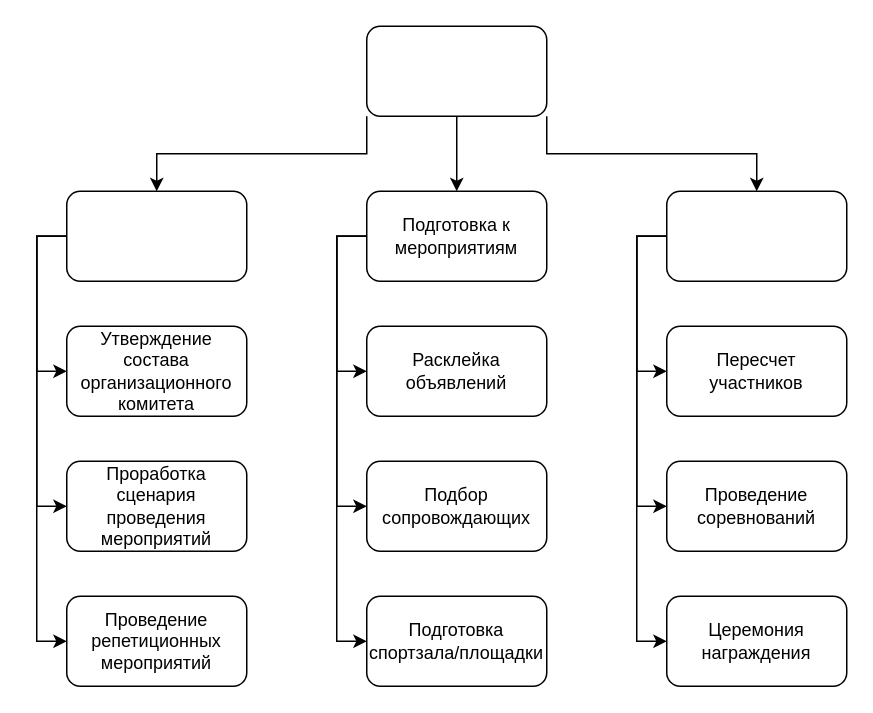
The diagram is 873 pixels wide and 713 high, and some of its shapes have lost their labels. The centre of each missing label's shape, as x and y in pixels:
Организация детских спортивных мероприятий: the point at 456,70
Проведение мероприятий: the point at 756,235
Распоряжение директора о проведении мероприятий: the point at 156,235
